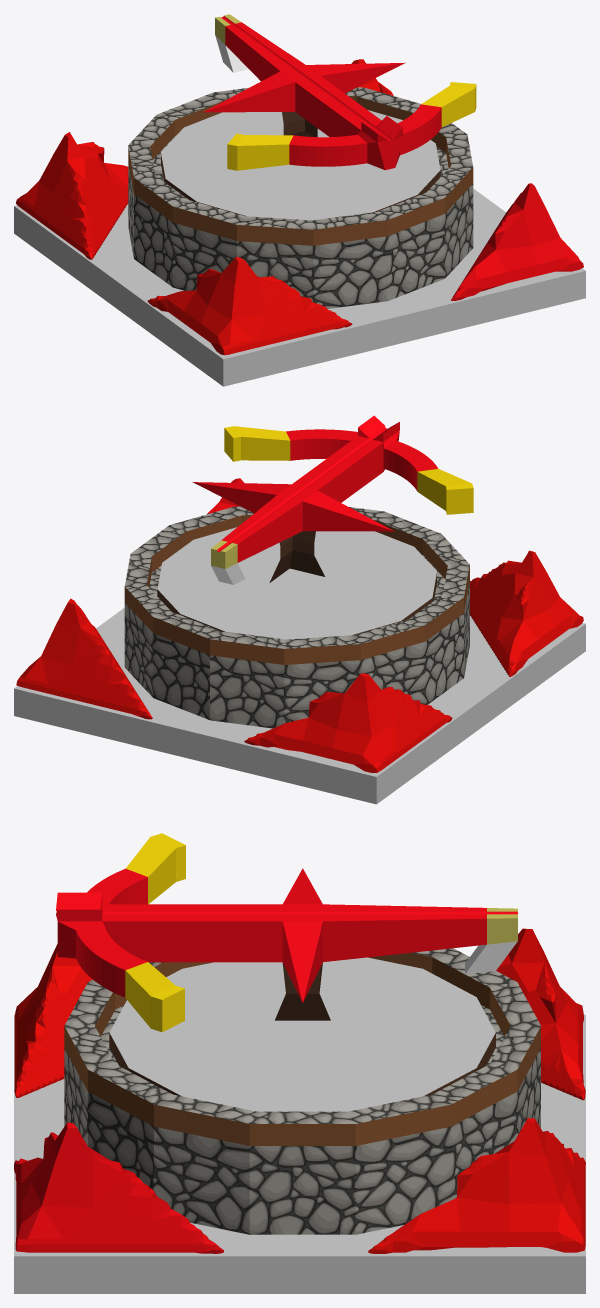
File: CrossbowFirelevel2.fbx
3 views of the same model, one above another, from view 1: azimuth 30°, elevation 25°; view 2: azimuth 150°, elevation 25°; view 3: azimuth 270°, elevation 25° (orthographic). The views are drawn at different scales.
Parts seen in each view (by area): view 1: Cylinder.002, Cube.011, Cube.009, Cylinder.001, Cone.001, Cone.002, Cone, Cube.010; view 2: Cylinder.002, Cube.011, Cylinder.001, Cube.009, Cone.002, Cone.001, Cone.003, Cube.010; view 3: Cylinder.002, Cylinder.001, Cube.009, Cube.011, Cone.003, Cone, Cone.002, Cone.001, Cube.010.
Boxes of the visible parts, box(x1,y1,x2,y2) form: Cylinder.002: box(128, 87, 473, 308); Cube.011: box(14, 188, 585, 386); Cube.009: box(203, 14, 476, 170); Cylinder.001: box(161, 110, 440, 220); Cone.001: box(147, 257, 352, 355); Cone.002: box(16, 132, 128, 259); Cone: box(451, 183, 583, 300); Cube.010: box(282, 112, 317, 137); Cylinder.002: box(124, 506, 469, 728); Cube.011: box(14, 608, 585, 804); Cylinder.001: box(157, 527, 436, 639); Cube.009: box(192, 415, 473, 584); Cone.002: box(244, 673, 452, 772); Cone.001: box(470, 550, 583, 676); Cone.003: box(16, 598, 152, 719); Cube.010: box(269, 531, 324, 582); Cylinder.002: box(64, 948, 540, 1234); Cylinder.001: box(109, 957, 495, 1111); Cube.009: box(56, 833, 517, 1032); Cube.011: box(14, 1014, 585, 1293); Cone.003: box(368, 1118, 585, 1253); Cone: box(14, 1122, 223, 1253); Cone.002: box(496, 928, 585, 1100); Cone.001: box(14, 944, 92, 1097); Cube.010: box(275, 963, 330, 1020).
Bounding box in the file's own units: 277 × 146 × 277.
